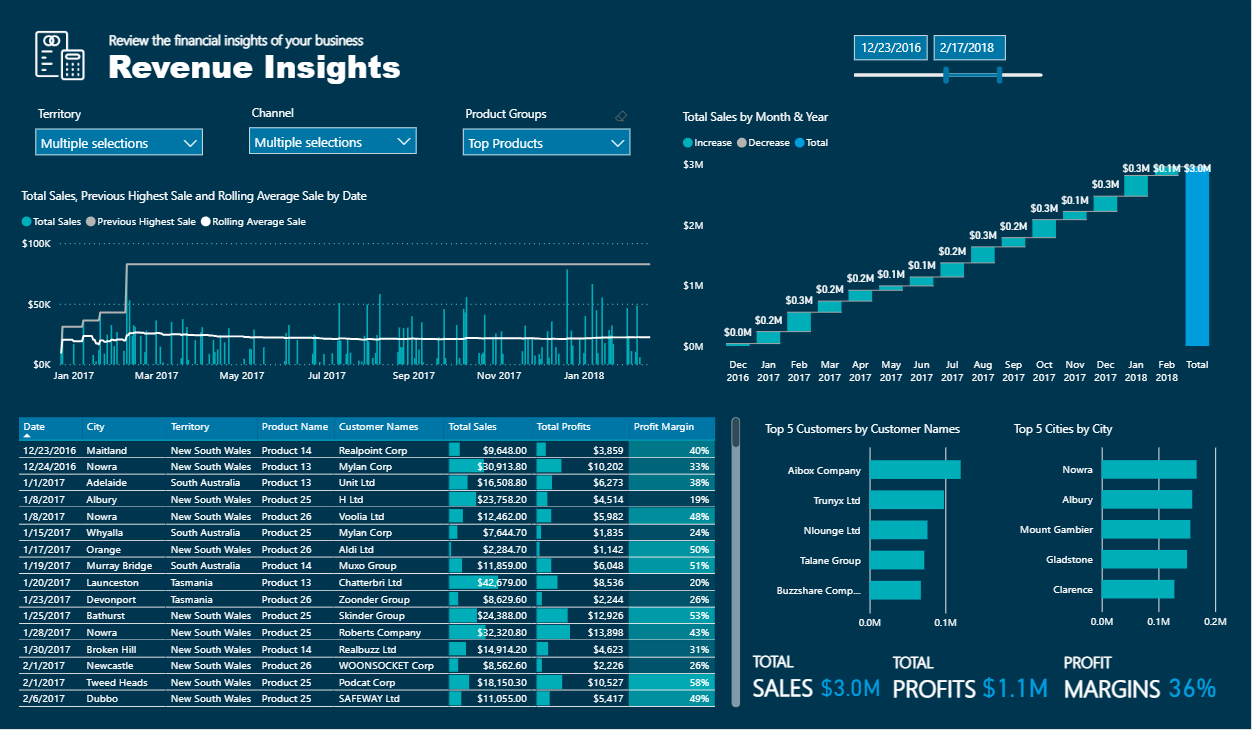

The page's visual inventory and layout, read from the dashboard file:
{"tool":"powerbi","page":{"name":"Revenue Insights","canvas":[1280,720],"ordinal":6},"visuals":[{"type":"textbox","box":[107.6,0,291.5,34.4],"z":0},{"type":"textbox","box":[766.3,633.9,83.4,71.1],"z":1000},{"type":"textbox","box":[105.5,14.5,370.4,60],"z":2000},{"type":"image","box":[18.3,1.1,88.2,60.2],"z":3000},{"type":"lineStackedColumnComboChart","fields":{"Category":["Dates.Date"],"Y":["Key Measures.Total Sales"],"Y2":["Key Measures.Previous Highest Sale","Key Measures.Rolling Average Sale"]},"box":[18.4,166.7,675.6,208.4],"z":6000},{"type":"waterfallChart","fields":{"Category":["Dates.Month & Year"],"Y":["Key Measures.Total Sales"]},"box":[693.9,85.8,561.5,289.3],"z":7000},{"type":"tableEx","fields":{"Values":["Dates.Date","Regions.City","Regions.Territory","Products.Product Name","Customers.Customer Names","Key Measures.Total Sales","Key Measures.Total Profits","Key Measures.Profit Margin"]},"box":[13.5,396,749.1,306.5],"z":8000},{"type":"slicer","fields":{"Values":["Regions.Territory"]},"box":[27,78.5,191.3,68.7],"z":9000},{"type":"slicer","fields":{"Values":["Dates.Date.Variation.Date Hierarchy.Year"]},"box":[861.9,0,218.2,71.1],"z":10000},{"type":"slicer","fields":{"Values":["Sales.Channel"]},"box":[245.2,77.2,191.3,68.7],"z":11000},{"type":"slicer","fields":{"Values":["Products.Product Groups"]},"box":[464.7,78.5,191.3,68.7],"z":12000},{"type":"barChart","fields":{"Category":["Regions.City"],"Y":["Key Measures.Top 5 Cities"]},"box":[1033.6,404.6,228,223.1],"z":13000},{"type":"barChart","fields":{"Category":["Customers.Customer Names"],"Y":["Key Measures.Top 5 Customers"]},"box":[778.5,403.4,245.2,224.4],"z":14000},{"type":"card","fields":{"Values":["Key Measures.Total Sales"]},"box":[821.5,648.6,98.1,57.6],"z":15000},{"type":"card","fields":{"Values":["Key Measures.Total Profits"]},"box":[995.6,648.6,87,57.6],"z":16000},{"type":"textbox","box":[908.5,635.1,115.2,63.8],"z":17000},{"type":"textbox","box":[1083.8,635.1,118.9,63.8],"z":18000},{"type":"card","fields":{"Values":["Key Measures.Profit Margin"]},"box":[1184.4,648.6,73.6,57.6],"z":19000}]}

Visuals, with their boxes on the page's 1280x720 design canvas (x1, y1, x2, y2). These are canvas units, not pixel positions in the 1252x730 screenshot, which may show the page scaled, cropped or inside an application window:
textbox: detection(108, 0, 399, 34)
textbox: detection(766, 634, 850, 705)
textbox: detection(106, 14, 476, 74)
image: detection(18, 1, 106, 61)
lineStackedColumnComboChart - Dates.Date x Key Measures.Total Sales: detection(18, 167, 694, 375)
waterfallChart - Dates.Month & Year x Key Measures.Total Sales: detection(694, 86, 1255, 375)
tableEx - Dates.Date x Regions.City: detection(14, 396, 763, 702)
slicer - Regions.Territory: detection(27, 78, 218, 147)
slicer - Dates.Date.Variation.Date Hierarchy.Year: detection(862, 0, 1080, 71)
slicer - Sales.Channel: detection(245, 77, 436, 146)
slicer - Products.Product Groups: detection(465, 78, 656, 147)
barChart - Regions.City x Key Measures.Top 5 Cities: detection(1034, 405, 1262, 628)
barChart - Customers.Customer Names x Key Measures.Top 5 Customers: detection(778, 403, 1024, 628)
card - Key Measures.Total Sales: detection(822, 649, 920, 706)
card - Key Measures.Total Profits: detection(996, 649, 1083, 706)
textbox: detection(908, 635, 1024, 699)
textbox: detection(1084, 635, 1203, 699)
card - Key Measures.Profit Margin: detection(1184, 649, 1258, 706)
